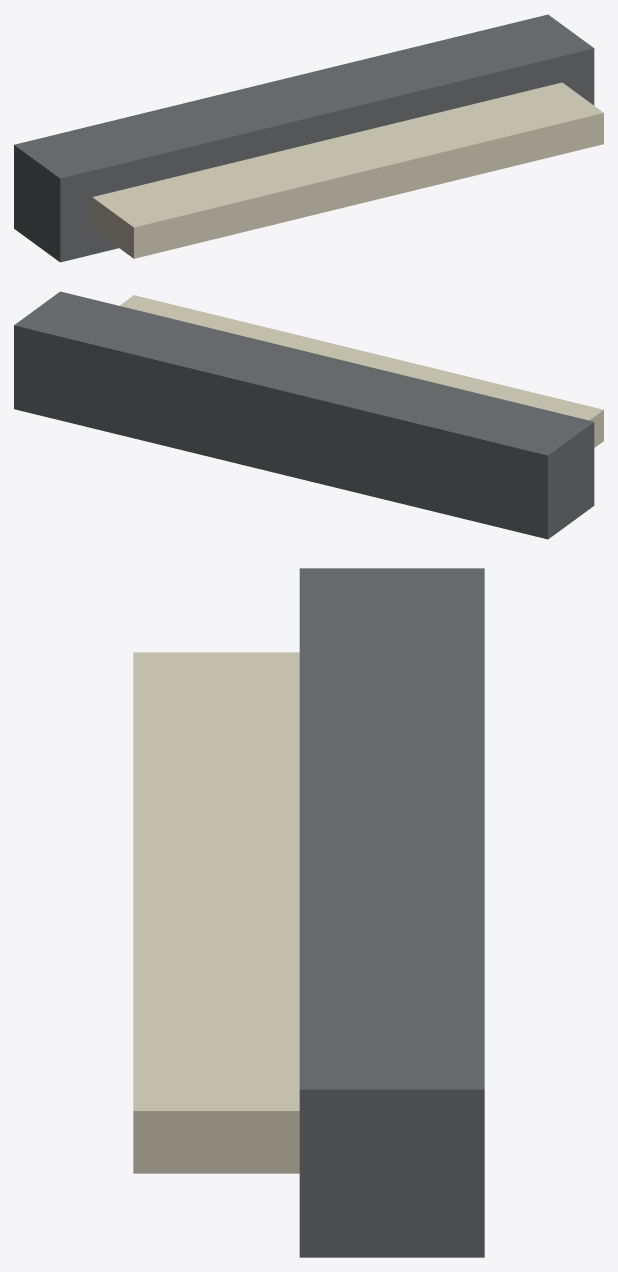
Rendered from wall-sconce-linear.glb.
The picture shows the model from 3 angles, top to bottom: view 1: azimuth 30°, elevation 25°; view 2: azimuth 150°, elevation 25°; view 3: azimuth 270°, elevation 25°; orthographic projection. The views are drawn at different scales.
Visible parts, largest first — view 1: wall-sconce-linear-0, wall-sconce-linear-1; view 2: wall-sconce-linear-0, wall-sconce-linear-1; view 3: wall-sconce-linear-0, wall-sconce-linear-1.
Part boxes in pixels (<box>): wall-sconce-linear-0: <box>14,14,594,262</box>; wall-sconce-linear-1: <box>92,82,603,258</box>; wall-sconce-linear-0: <box>14,291,594,539</box>; wall-sconce-linear-1: <box>119,295,603,447</box>; wall-sconce-linear-0: <box>299,568,484,1257</box>; wall-sconce-linear-1: <box>133,652,299,1173</box>.
Bounding box in the file's own units: 0.5 × 0.075 × 0.1425.
